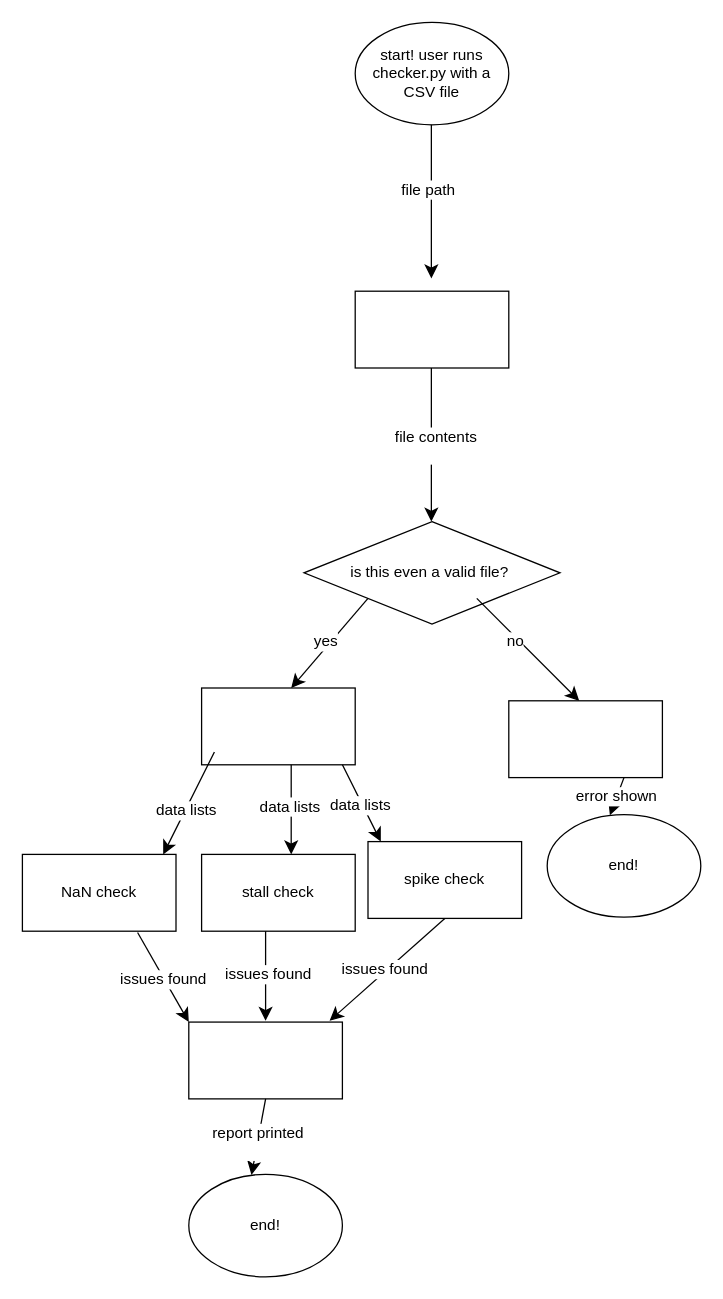
This 723x1299 diagram has some shape labels left out. The box of each missing label's shape, as (x1, y1, x2, y2) in pixels:
parse step, loss, grad norm: (200, 687, 355, 765)
print report: (188, 1021, 342, 1099)
print the error: (508, 700, 662, 778)
read CSV file: (354, 290, 509, 368)
